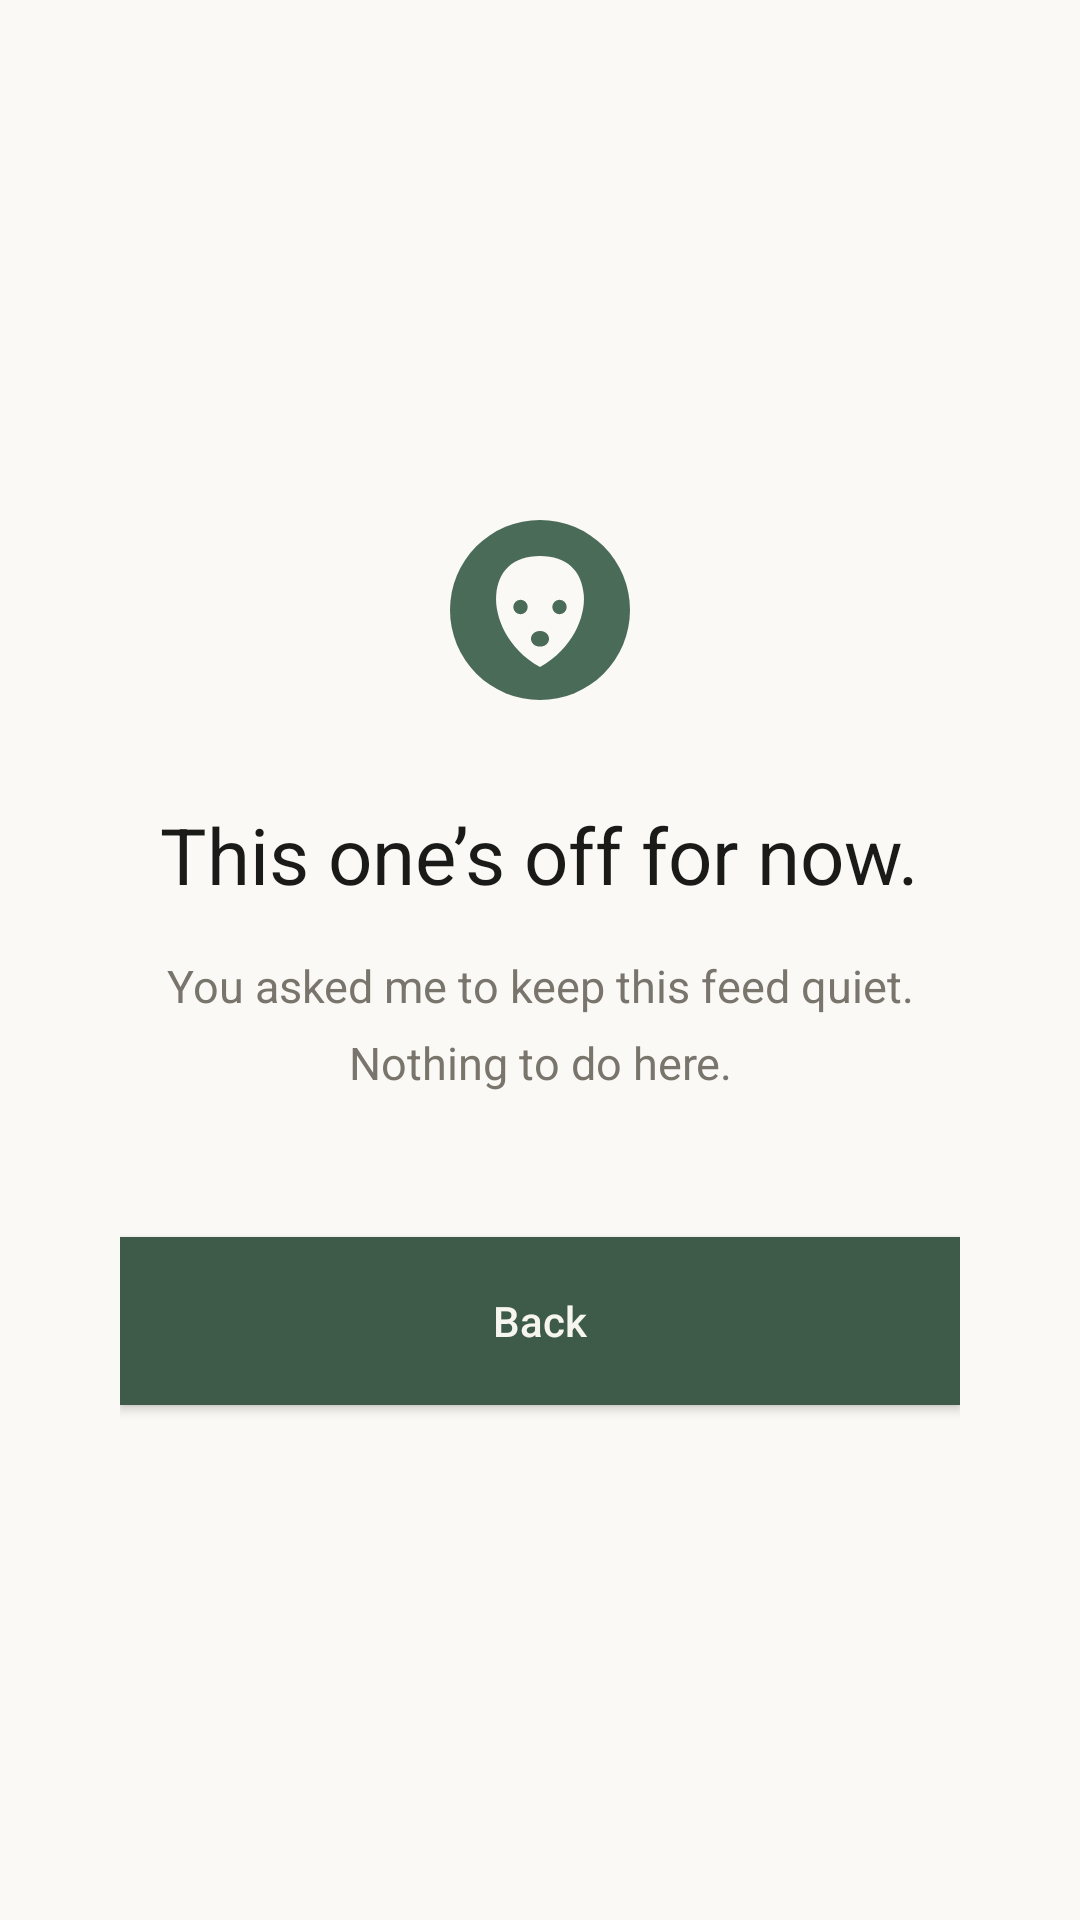

Screen size 1080px x 1920px. Icon name, then its box in pixels as (x1, y1, x2, y2):
badger roundel: (450, 520, 630, 700)
